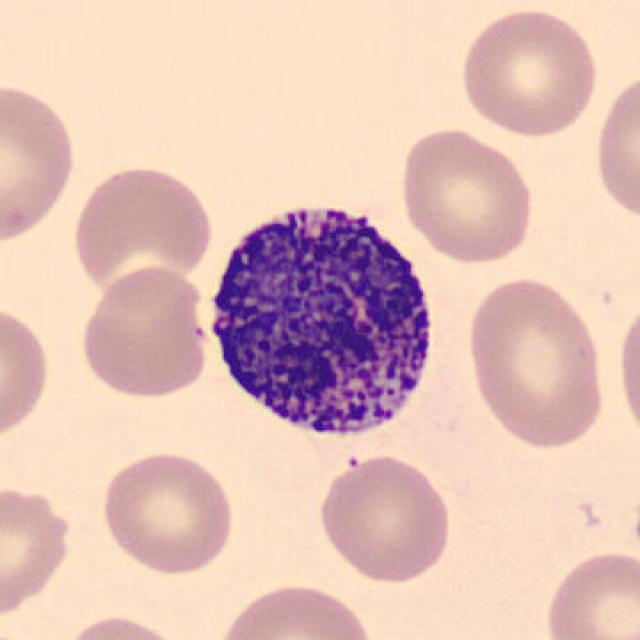Basophil: (194, 187, 448, 458)
RBC: (462, 272, 610, 452), (67, 160, 217, 302), (394, 124, 538, 266), (455, 4, 601, 140), (315, 451, 455, 587), (76, 263, 212, 402), (96, 448, 238, 576), (0, 75, 80, 248), (0, 480, 78, 624), (213, 578, 379, 640), (540, 545, 638, 640), (590, 66, 640, 228), (0, 299, 53, 446), (613, 294, 640, 448), (57, 612, 188, 640)
